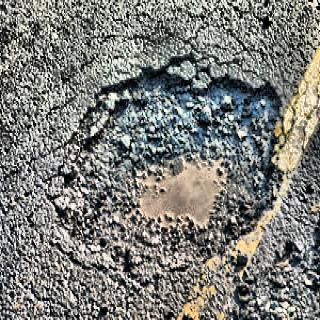pothole: (56, 56, 288, 278)
